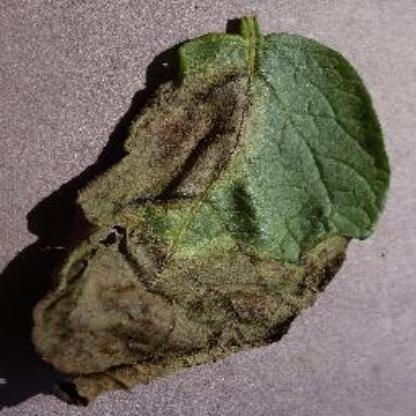Late-Blight: (12, 20, 394, 402)
